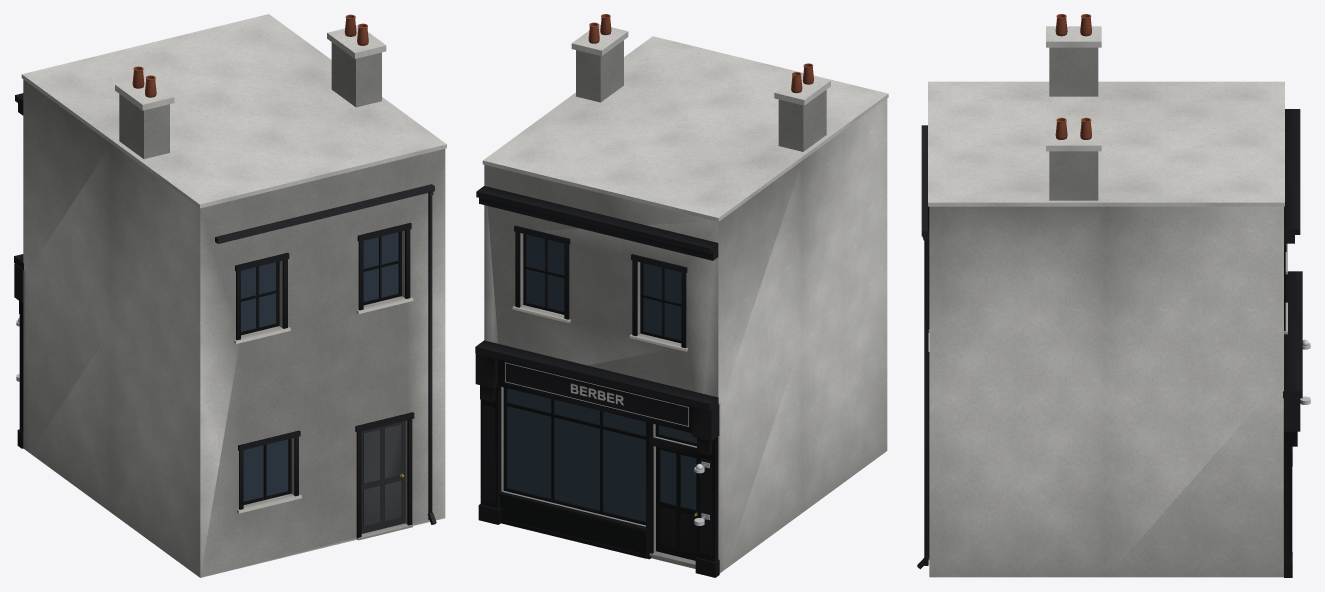
Rendered from barber-shop_lod0.glb.
3 renders of one model, left to right at view 1: azimuth 30°, elevation 25°; view 2: azimuth 150°, elevation 25°; view 3: azimuth 270°, elevation 25°, orthographic. The views are drawn at different scales.
Parts seen in each view (by area): view 1: barber-shop; view 2: barber-shop; view 3: barber-shop.
Part boxes in pixels (x1,y1,x2,y2): barber-shop: (14,14,446,577); barber-shop: (475,14,888,577); barber-shop: (917,14,1310,577).
Size of the model in its own units: 5.26 by 9.08 by 7.21.
Materials: 8 (6 with a texture image).
